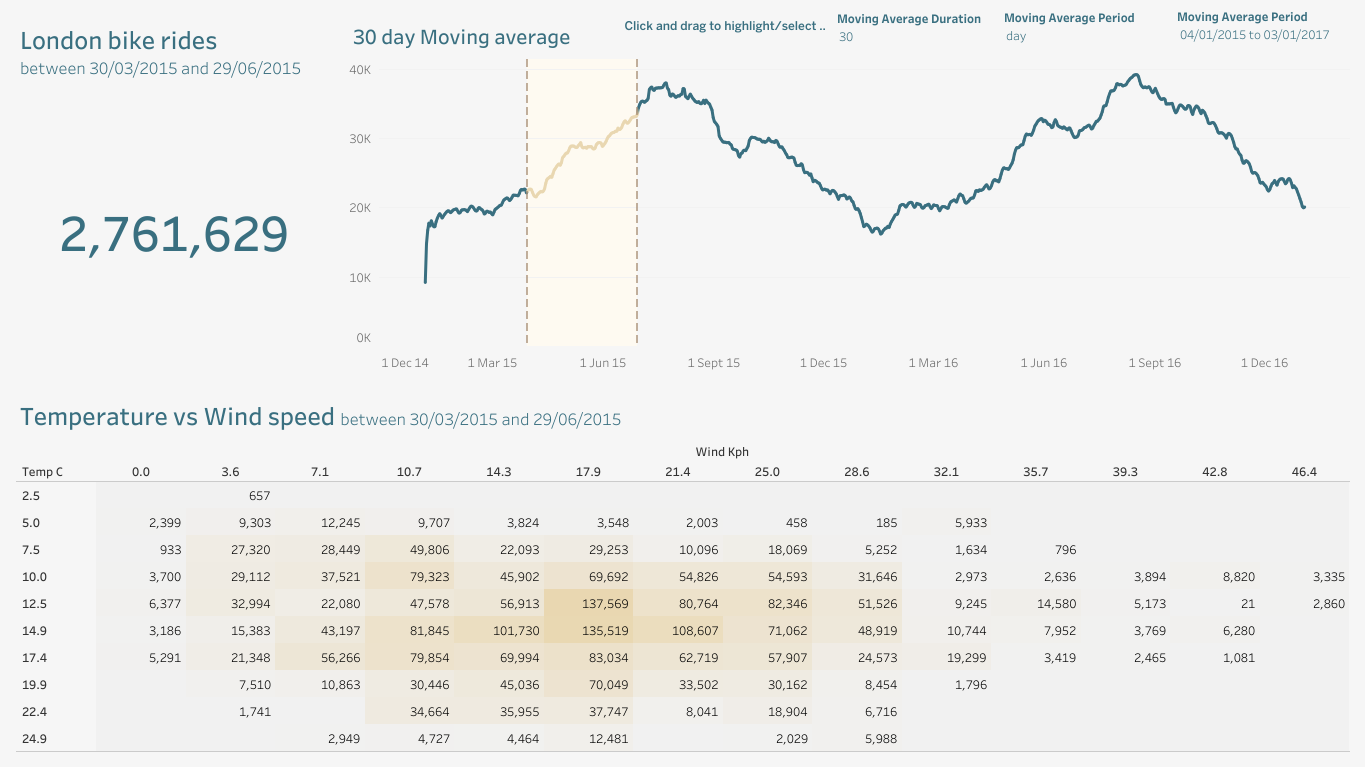

The page's visual inventory and layout, read from the dashboard file:
{"tool":"tableau","page":{"name":"Dashboard 1","canvas":[1366,768],"ordinal":0},"visuals":[{"type":"filter","title":"Moving Average","param":"[federated.0sra4710rmbf5916bl9r11imjkfj].[none:Calculation_215820971413749760:qk","box":[1177,6,168,65]},{"type":"parameter","param":"[Parameters].[Parameter 1]","box":[1004,7,160,56]},{"type":"worksheet","title":"Total Rides","mark":"Automatic","box":[8,8,333,376]},{"type":"worksheet","title":"Moving Average","mark":"Automatic","rows":["Calculation1"],"cols":["Calculation_215820971413749760"],"box":[341,8,1017,376]},{"type":"parameter","param":"[Parameters].[Parameter 2]","box":[837,8,160,44]},{"type":"text","box":[622,11,269,30]},{"type":"worksheet","title":"Heatmap","mark":"Square","rows":["temp real C (bin)"],"cols":["Wind Speed Kph (bin)"],"box":[8,384,1350,376]}]}

Visuals, with their boxes in screenshot pixels (x1, y1, x2, y2), scaled from the page's 1366x768 canvas onto the 1365x767 screenshot:
"Moving Average" filter: 1176, 6, 1344, 71
parameter: 1003, 7, 1163, 63
"Total Rides" worksheet: 8, 8, 341, 384
"Moving Average" worksheet: 341, 8, 1357, 384
parameter: 836, 8, 996, 52
text: 622, 11, 890, 41
"Heatmap" worksheet (Square marks): 8, 384, 1357, 759
